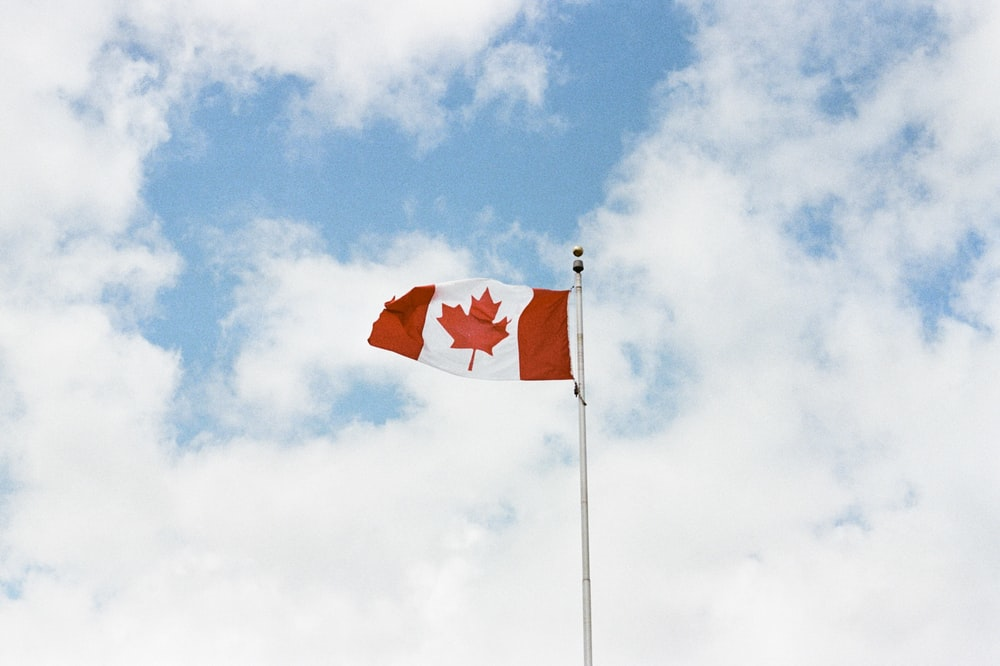Canada flag: (366, 270, 586, 385)
